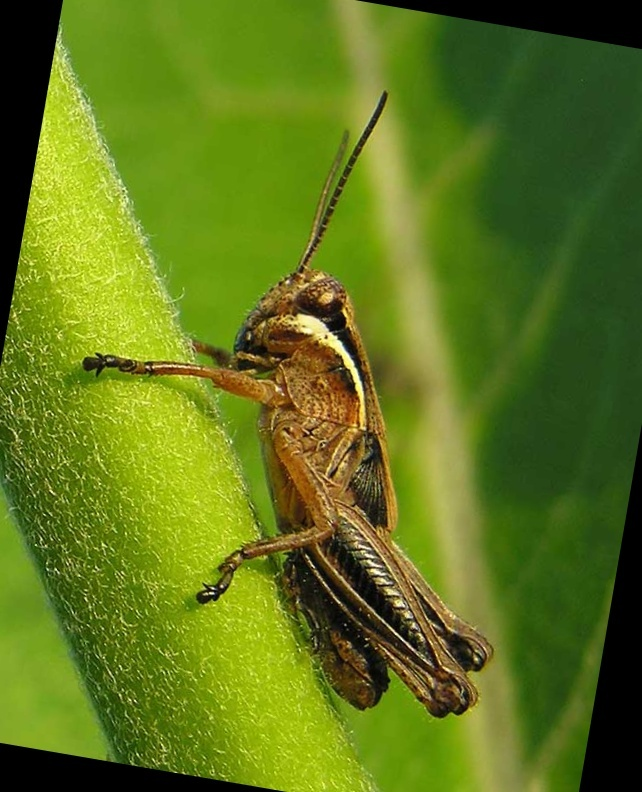Brown_hopper: (91, 184, 582, 742)
